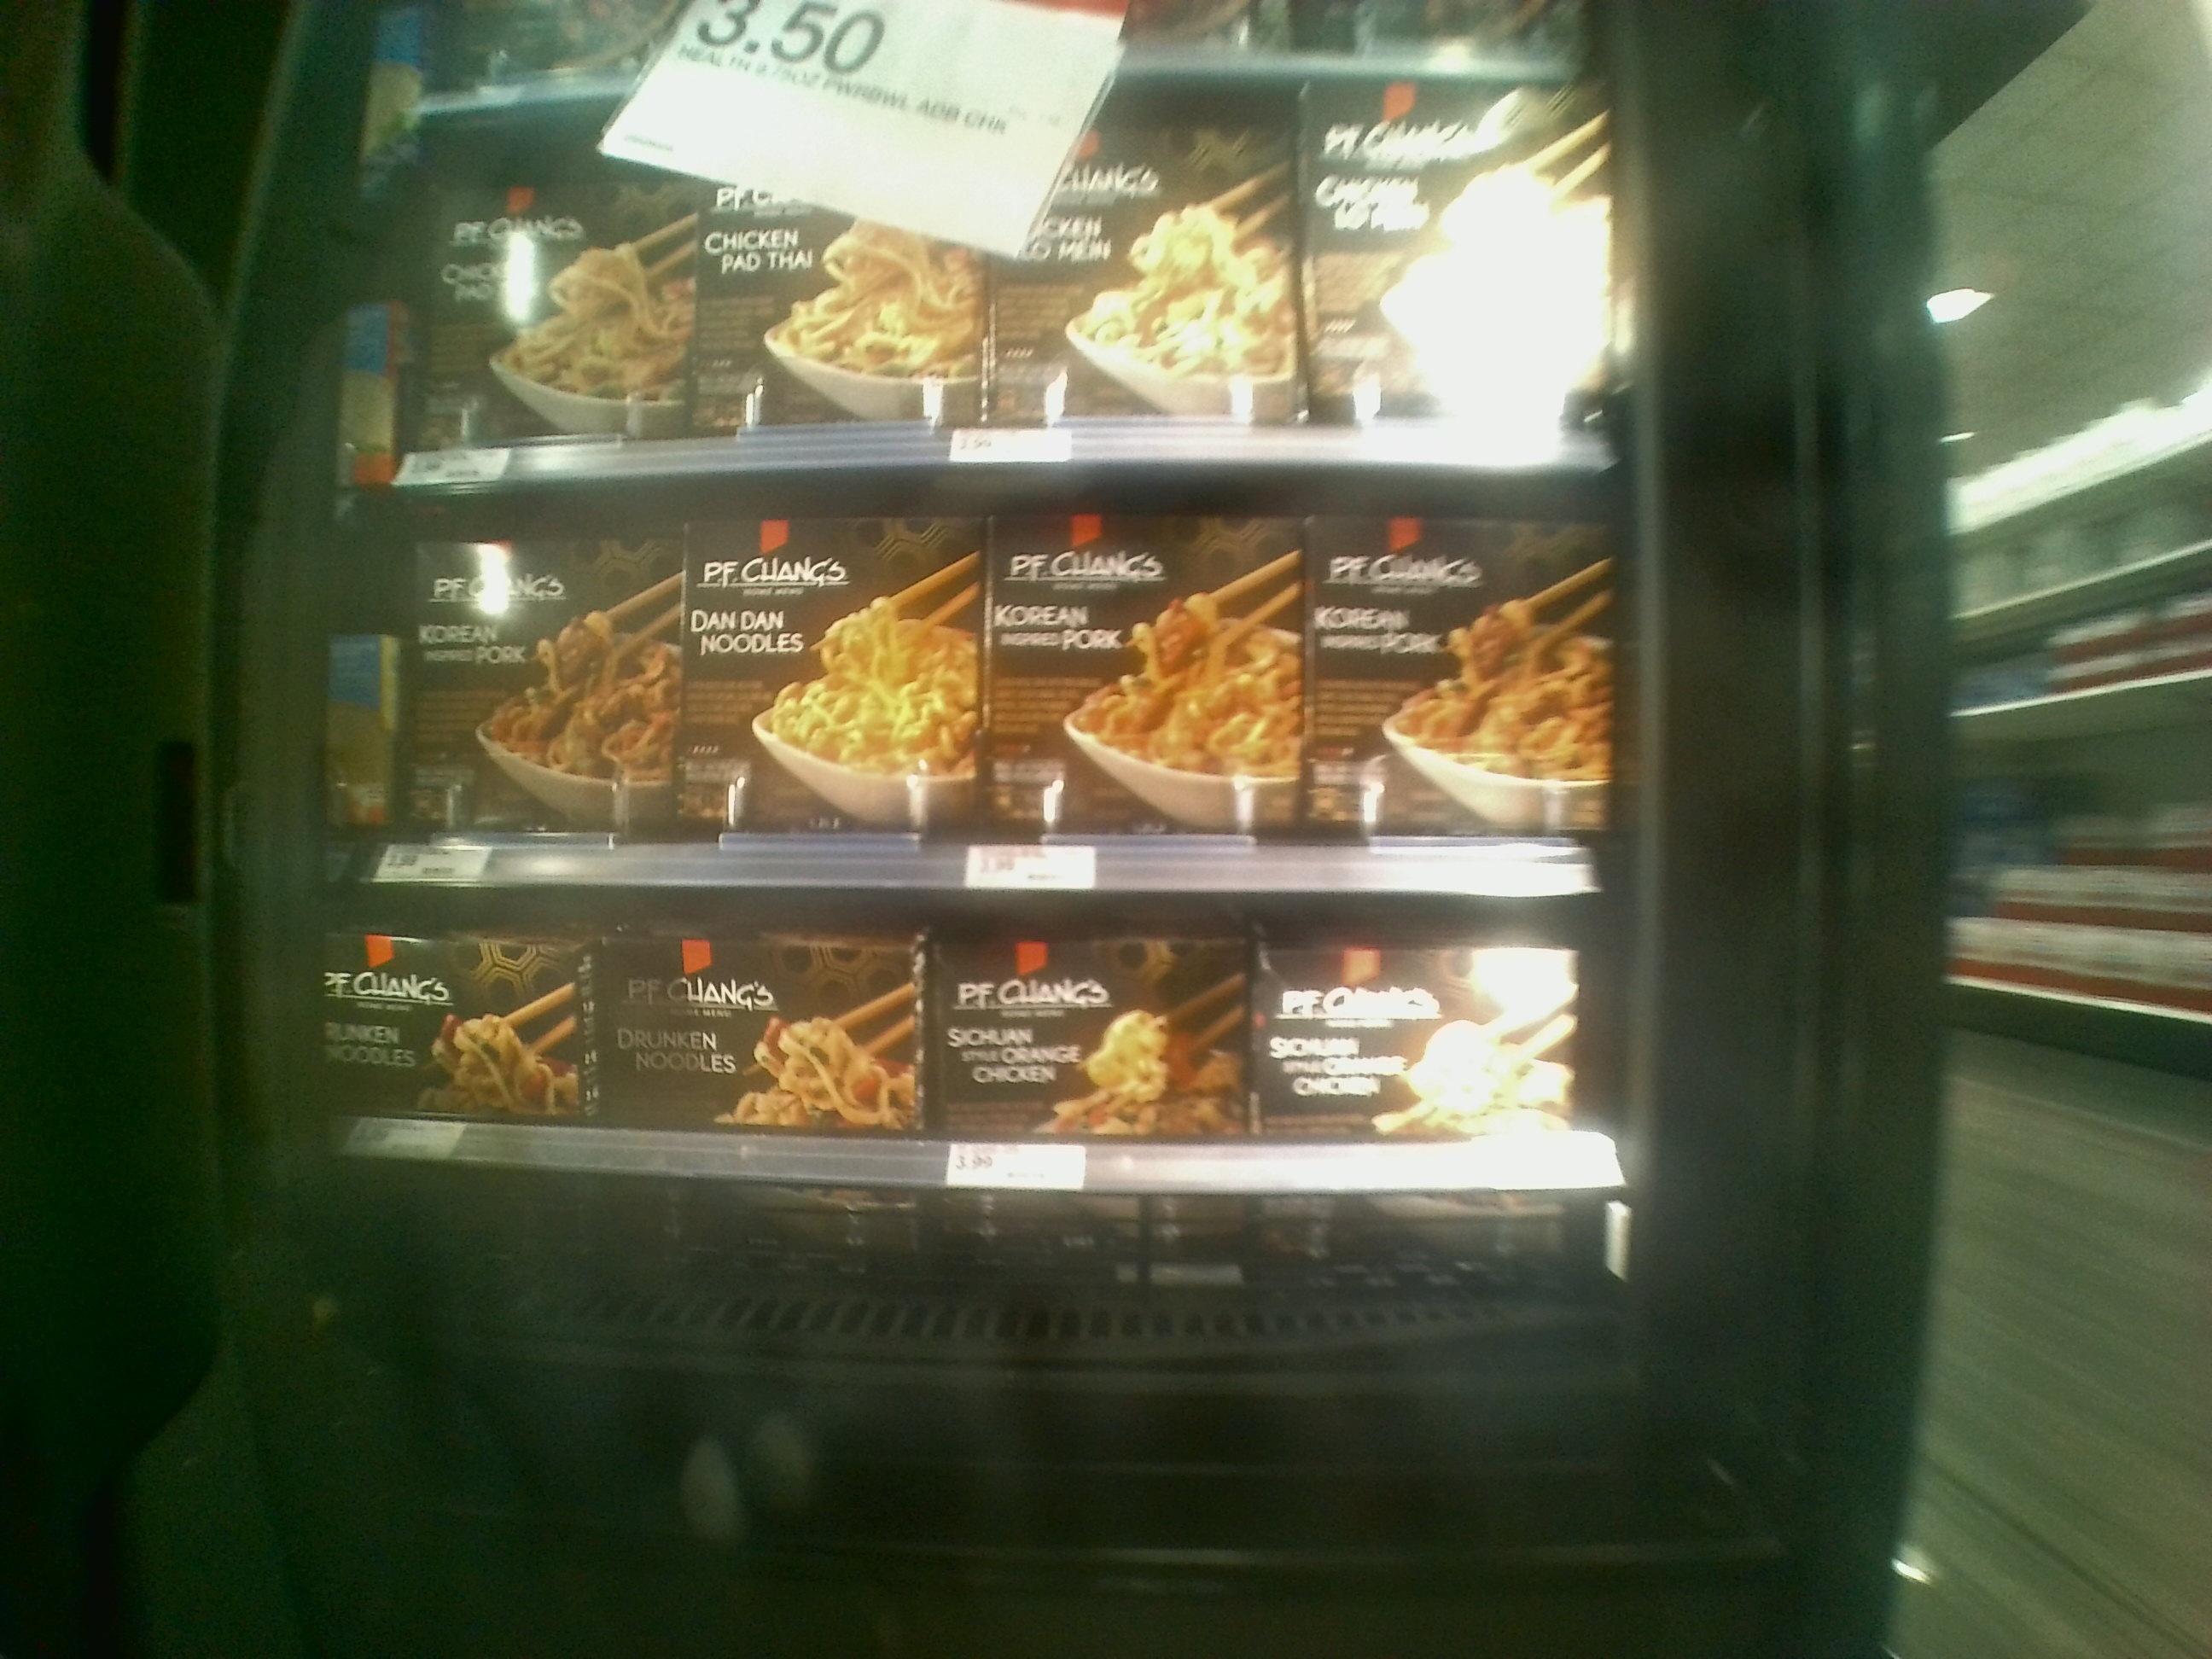shelf: (324, 889, 1635, 1394), (317, 460, 1601, 877), (322, 96, 1622, 460)
